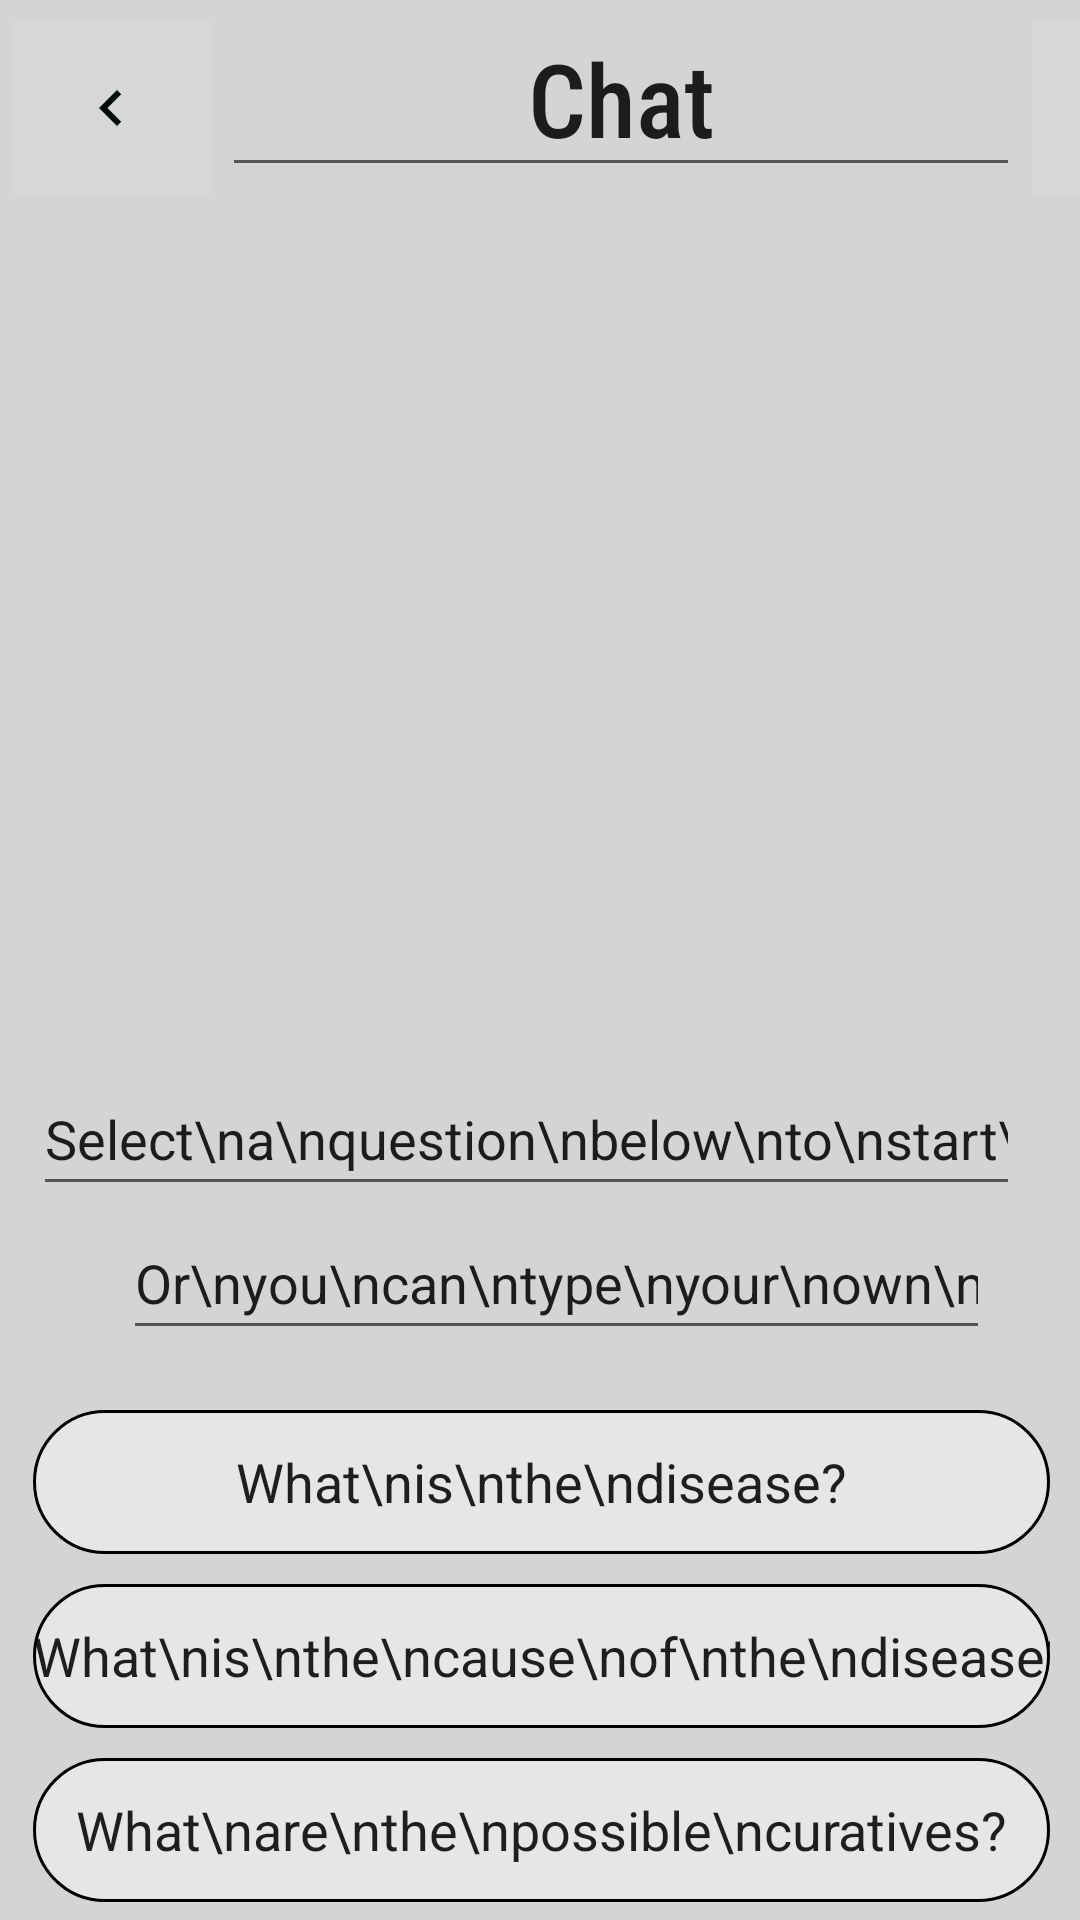

Named icons in this screenshot (1080px x 1920px) and their bounding boxes, bbox(x1, y1, x2, y2):
navigate before: bbox(99, 90, 121, 126)
